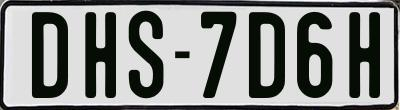6: (294, 10, 334, 98)
7: (198, 12, 239, 102)
D: (249, 11, 289, 102), (30, 10, 67, 101)
H: (349, 11, 384, 100), (83, 11, 114, 100)
S: (127, 11, 168, 99)
